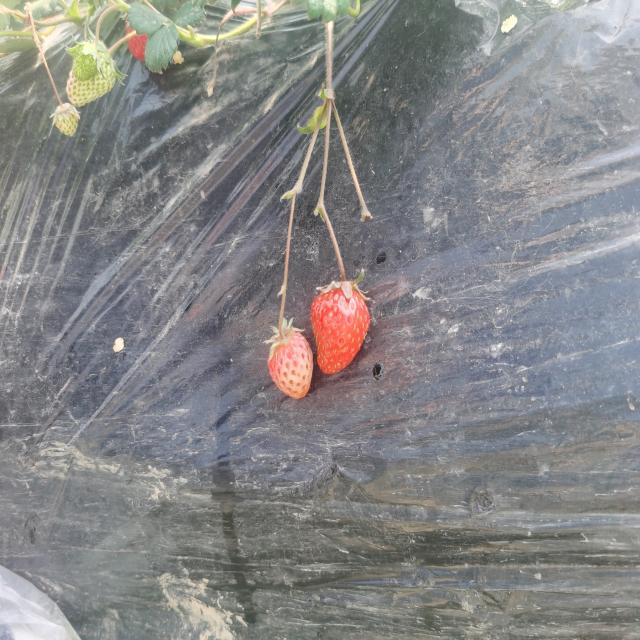stem: (332, 239, 347, 284), (279, 301, 285, 340)
strawberry: (310, 283, 370, 374), (267, 328, 313, 399)
